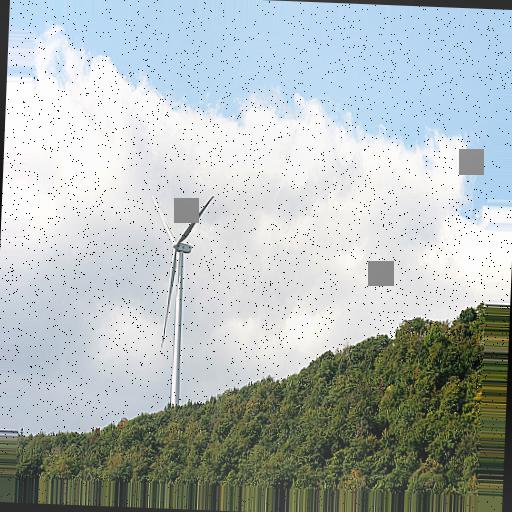wind turbine: (149, 192, 217, 413)
